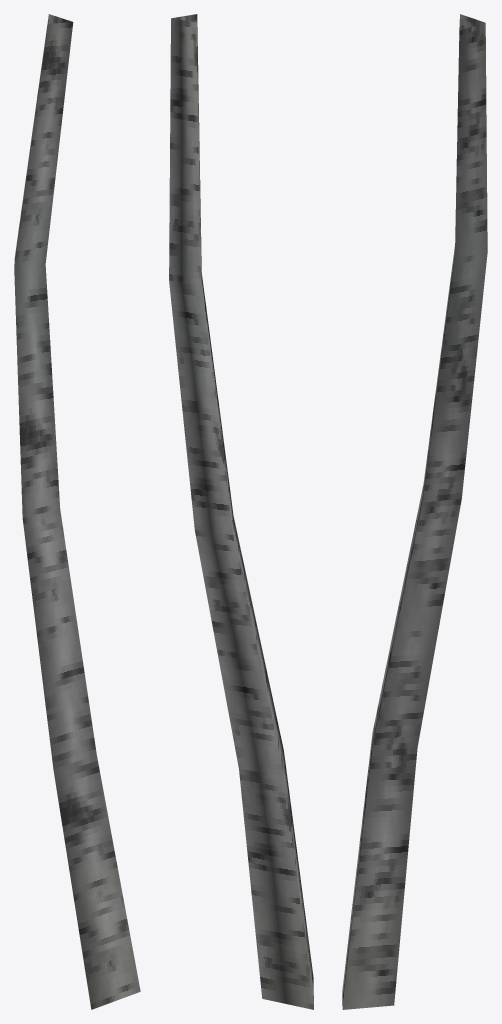
The model's file is sapling_bark_l2.gltf.
The picture shows the model from 3 angles, left to right: view 1: azimuth 90°, elevation 25°; view 2: azimuth 150°, elevation 25°; view 3: azimuth 330°, elevation 25°; orthographic projection. The views are drawn at different scales.
Visible parts, largest first — view 1: sapling_bark_l2; view 2: sapling_bark_l2; view 3: sapling_bark_l2.
Boxes of the visible parts, <box> form: sapling_bark_l2: <box>14,14,140,1009</box>; sapling_bark_l2: <box>169,14,313,1009</box>; sapling_bark_l2: <box>342,14,487,1009</box>.
Bounding box in the file's own units: 0.4194 × 3.26 × 0.3961.
Materials: 1 (1 with a texture image).
